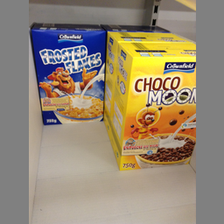cereal: (113, 41, 197, 171), (30, 24, 107, 126)
